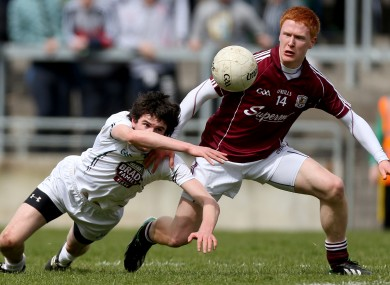ball: (206, 44, 262, 96)
player: (200, 7, 353, 245), (34, 80, 187, 248)
